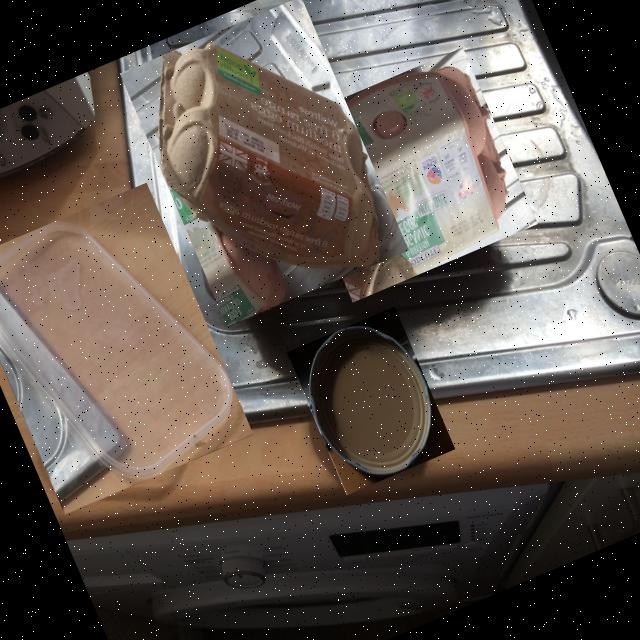Egg carton: (158, 43, 379, 268), (296, 66, 510, 274)
Metal lid: (310, 325, 433, 474)
Plastic lid: (0, 222, 234, 479)
